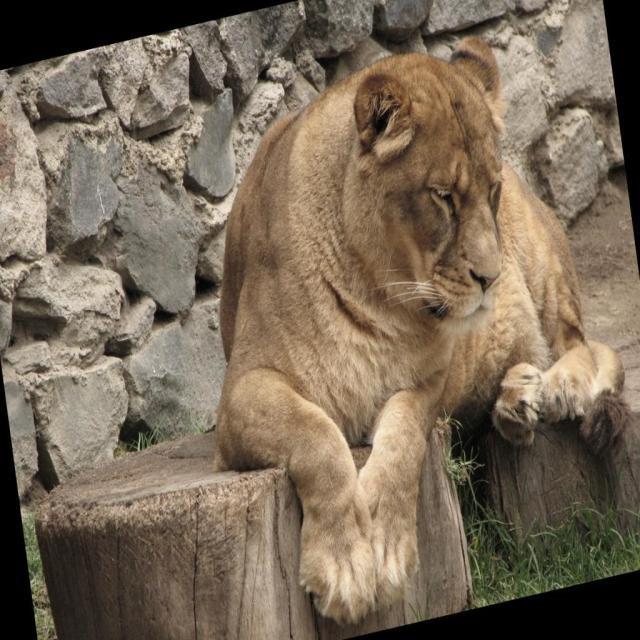Lion: (163, 8, 639, 639)
